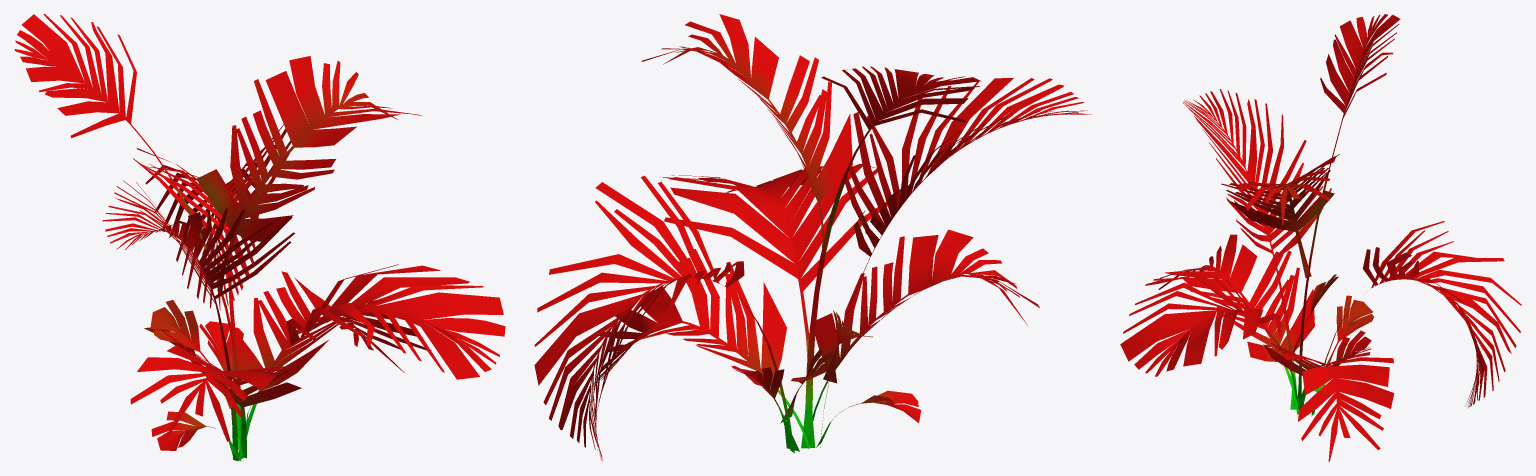
Rendered from Areca Palm_LOD1_Var2_shFjC.fbx.
3 renders of one model, left to right at view 1: azimuth 30°, elevation 25°; view 2: azimuth 150°, elevation 25°; view 3: azimuth 270°, elevation 25°, orthographic. The views are drawn at different scales.
Parts seen in each view (by area): view 1: _6dc0_Var2_LOD1; view 2: _6dc0_Var2_LOD1; view 3: _6dc0_Var2_LOD1.
Part boxes in pixels (left/top/right/bottom): _6dc0_Var2_LOD1: left=14, top=14, right=505, bottom=461; _6dc0_Var2_LOD1: left=534, top=14, right=1091, bottom=461; _6dc0_Var2_LOD1: left=1120, top=14, right=1521, bottom=461.
Bounding box in the file's own units: 123 × 130 × 140.
